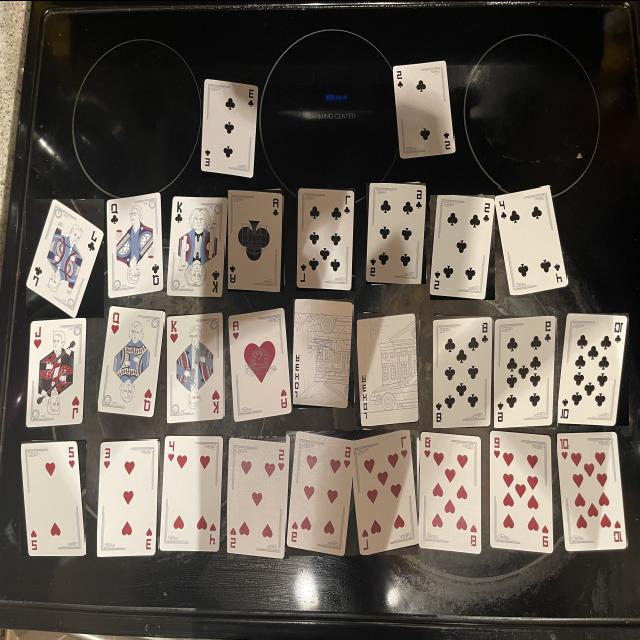10 of clubs: (558, 312, 628, 425)
10 of hearts: (557, 430, 627, 550)
2 of clubs: (394, 60, 454, 156)
2 of hearts: (21, 440, 85, 555)
3 of clubs: (201, 78, 259, 177)
3 of hearts: (97, 439, 159, 555)
4 of clubs: (496, 186, 567, 294)
4 of hearts: (160, 435, 222, 550)
5 of clubs: (430, 194, 495, 298)
5 of hearts: (227, 436, 289, 557)
6 of clubs: (367, 182, 426, 283)
6 of hearts: (287, 430, 355, 555)
7 of clubs: (297, 187, 355, 290)
7 of hearts: (353, 429, 418, 553)
8 of clubs: (433, 315, 493, 427)
8 of hearts: (419, 432, 481, 553)
9 of clubs: (495, 315, 556, 427)
9 of hearts: (490, 430, 552, 552)
Ace of clubs: (228, 189, 283, 290)
Ace of hearts: (229, 307, 291, 420)
Jack of clubs: (26, 198, 104, 317)
Jack of hearts: (26, 317, 86, 426)
Joker: (357, 312, 419, 425), (293, 298, 353, 407)
King of clubs: (167, 195, 225, 295)
King of hearts: (167, 312, 224, 421)
Queen of clubs: (106, 192, 164, 296)
Queen of hearts: (99, 305, 164, 416)
